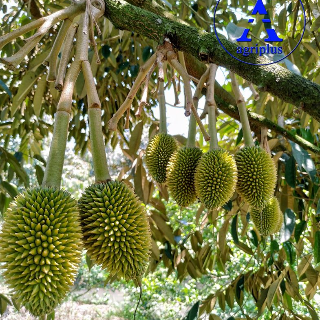sau_rieng: (3, 186, 82, 317), (78, 177, 155, 291)
